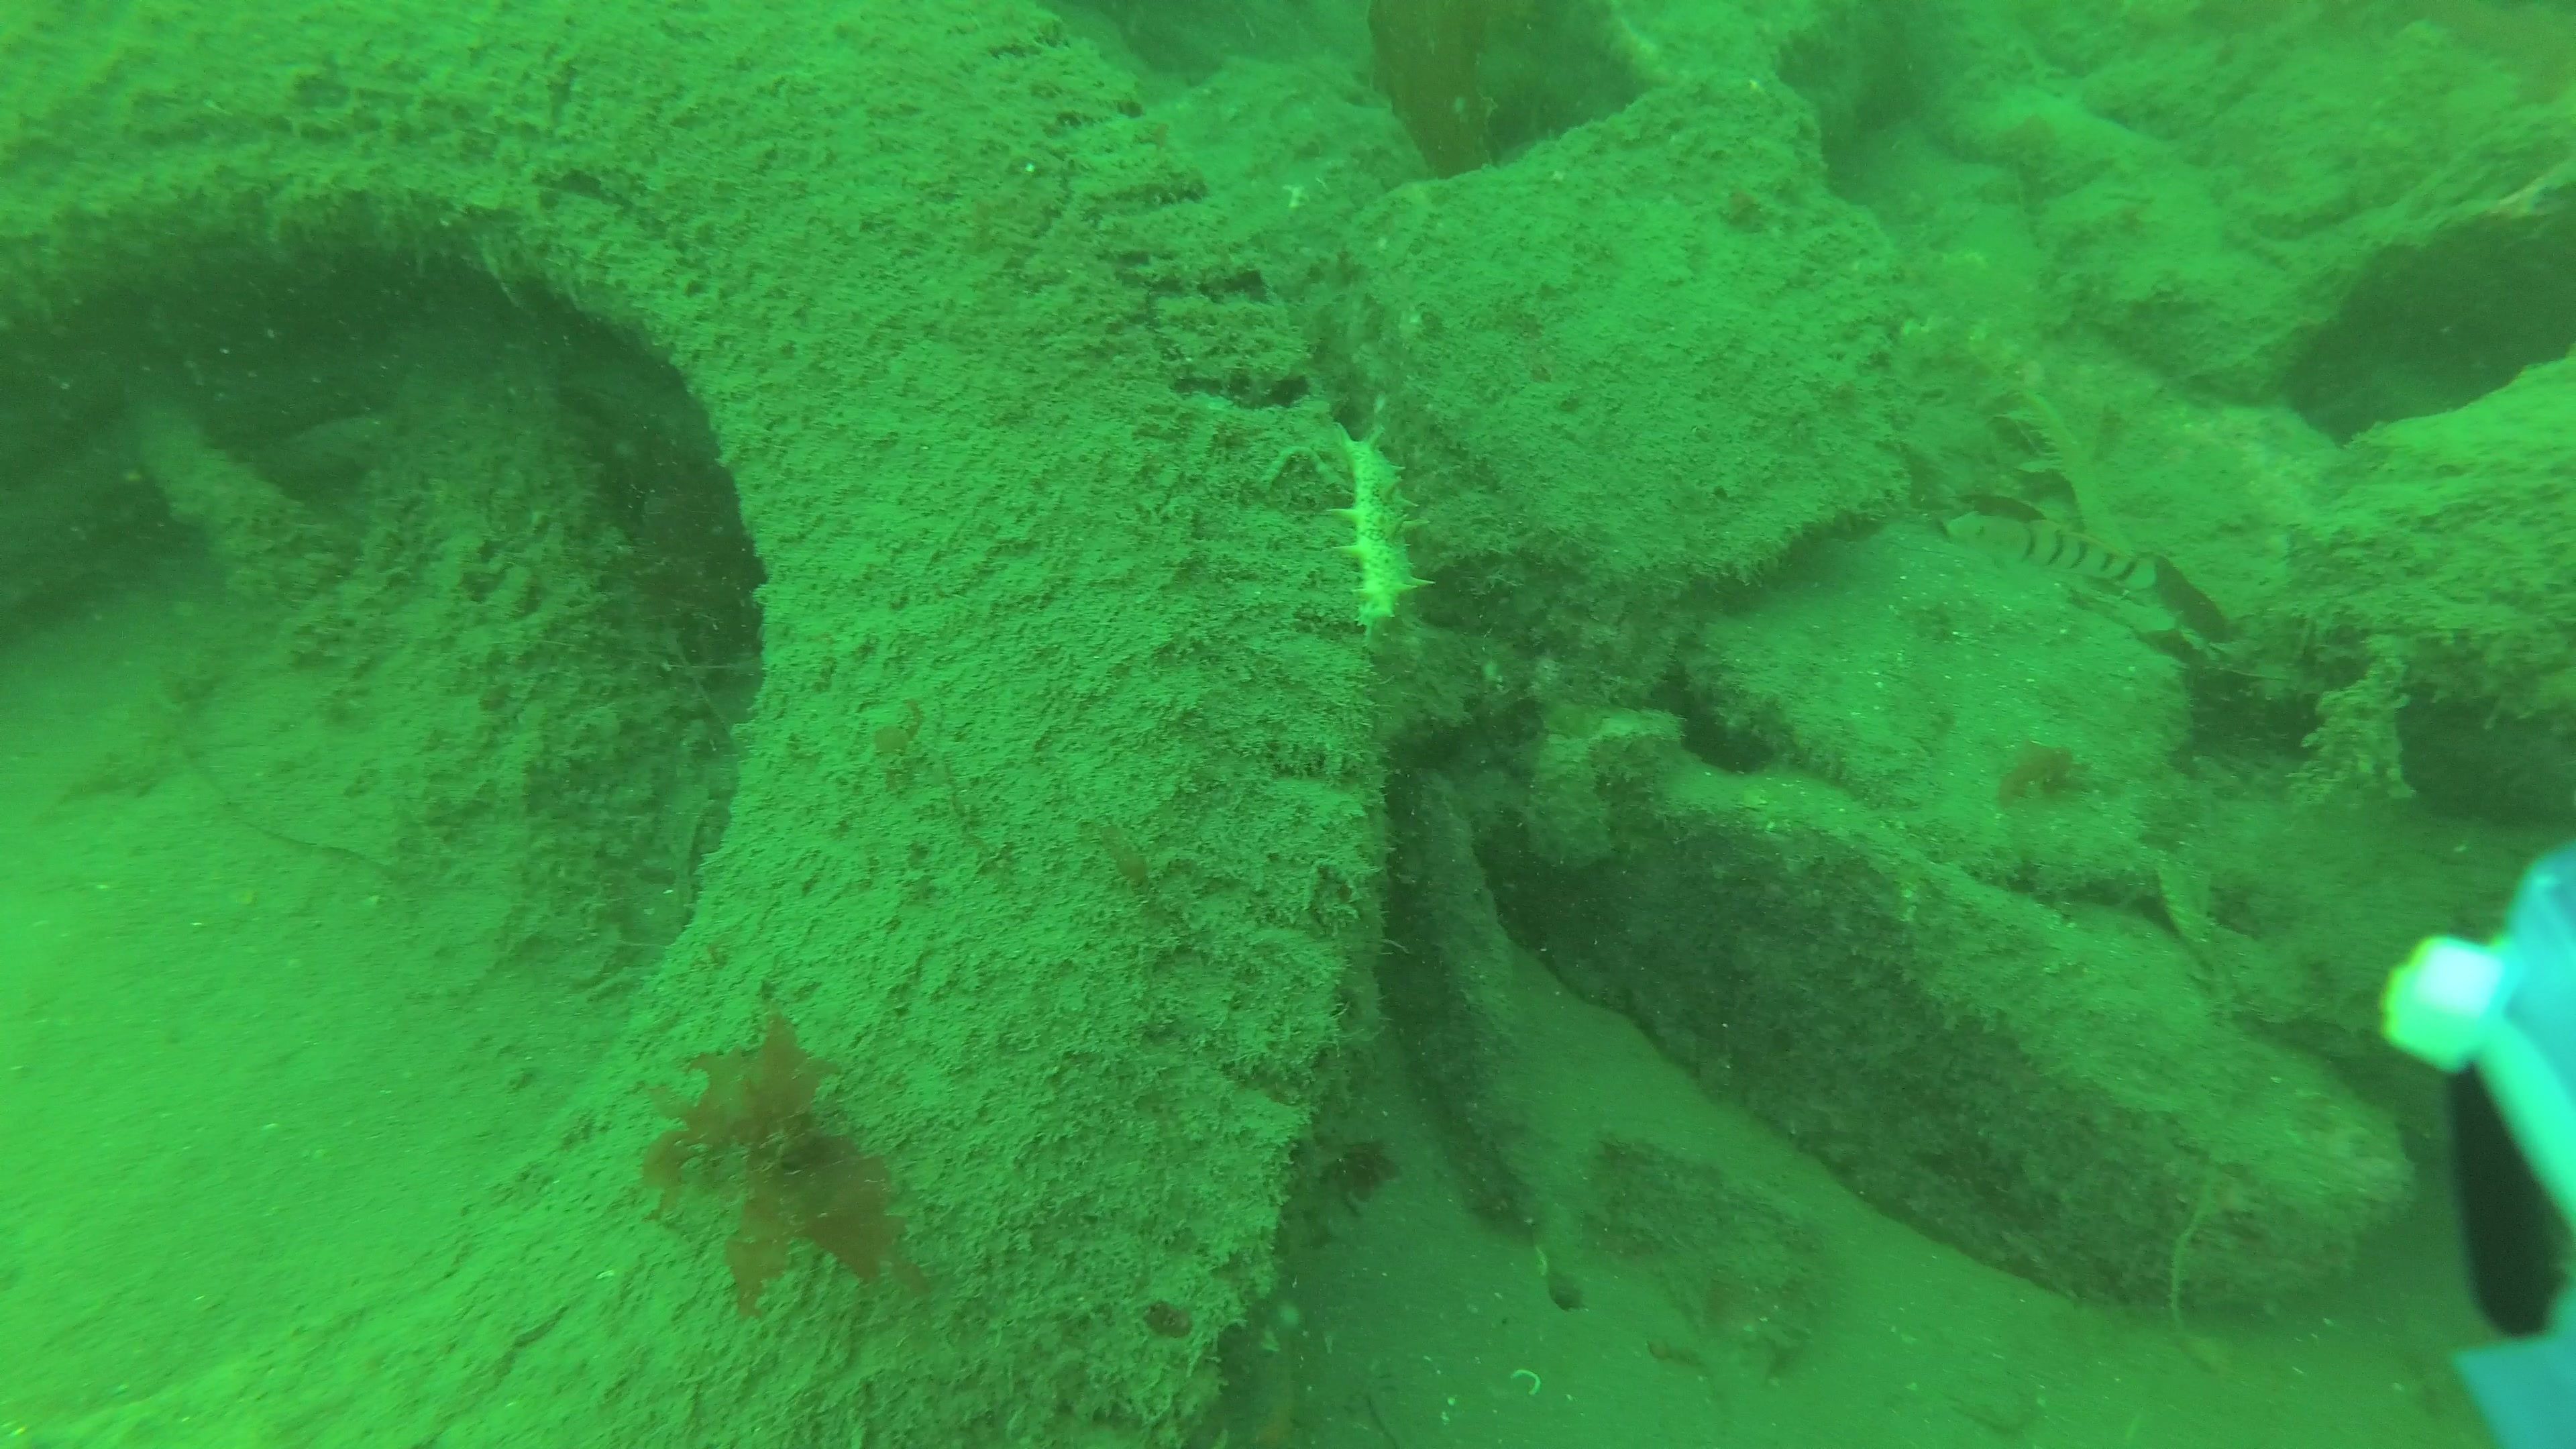holothurian: (1334, 433, 1433, 633)
starfish: (1253, 1336, 1297, 1449)
